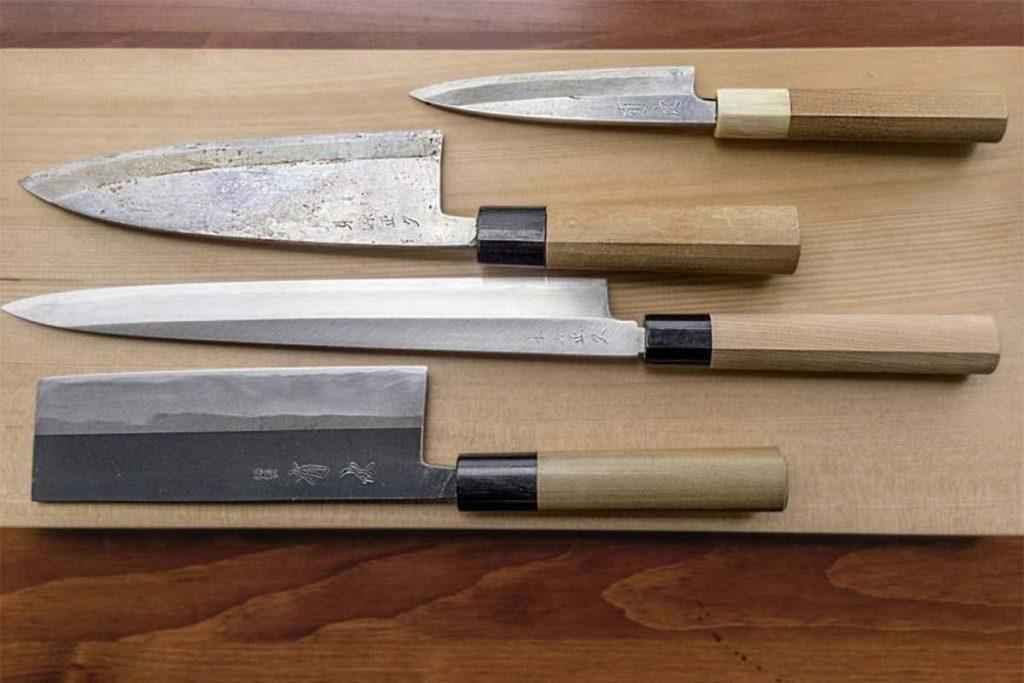faca: (20, 131, 800, 274), (4, 277, 1000, 374), (411, 66, 1007, 142)
facao: (31, 367, 788, 511)
